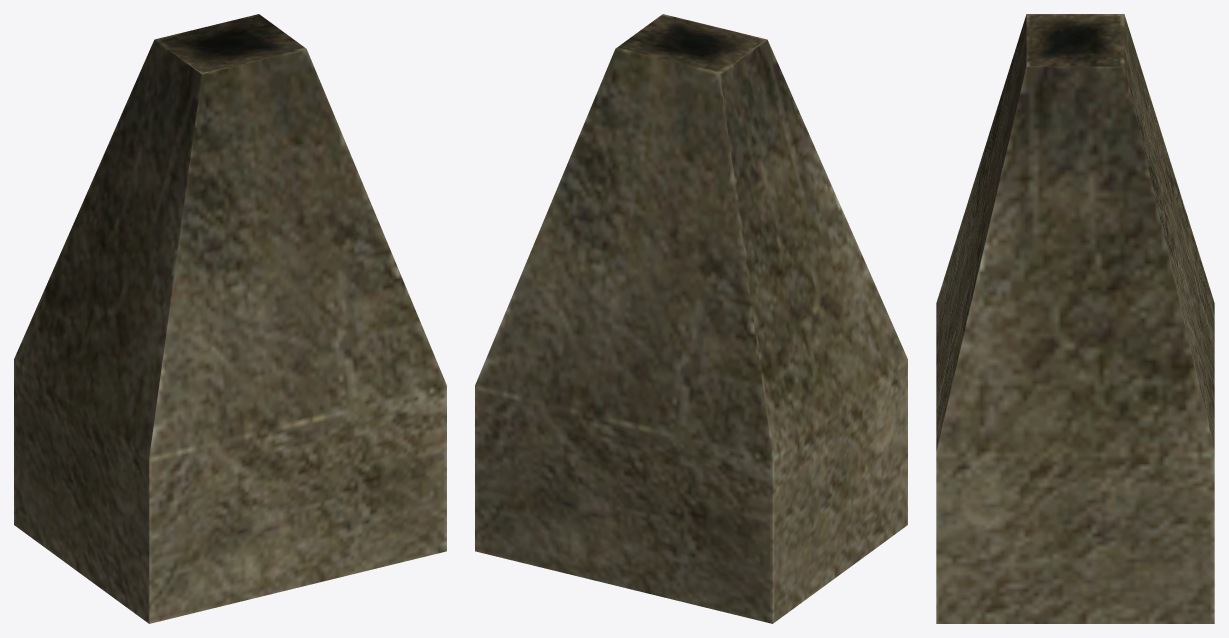
File: hrt_pipe2.glb
The picture shows the model from 3 angles, left to right: view 1: azimuth 30°, elevation 25°; view 2: azimuth 150°, elevation 25°; view 3: azimuth 270°, elevation 25°; orthographic projection. The views are drawn at different scales.
Visible parts, largest first — view 1: hrt_pipe2; view 2: hrt_pipe2; view 3: hrt_pipe2.
Boxes of the visible parts, x1,y1,x2,y2 form: hrt_pipe2: (14, 14, 446, 623); hrt_pipe2: (475, 14, 907, 623); hrt_pipe2: (936, 14, 1214, 623).
Bounding box in the file's own units: 0.7545 × 1.2 × 0.5935.
1 material, 1 textured.
